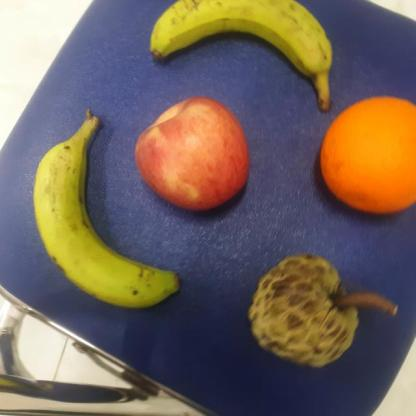annona: (245, 255, 361, 368)
apple: (131, 94, 251, 222)
banana: (29, 114, 180, 314), (147, 0, 330, 86)
orange: (312, 94, 416, 220)
